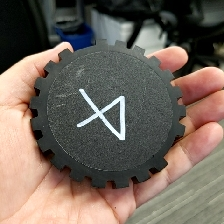gear: (28, 37, 187, 190)
missing: (153, 123, 186, 172), (59, 37, 109, 62)
